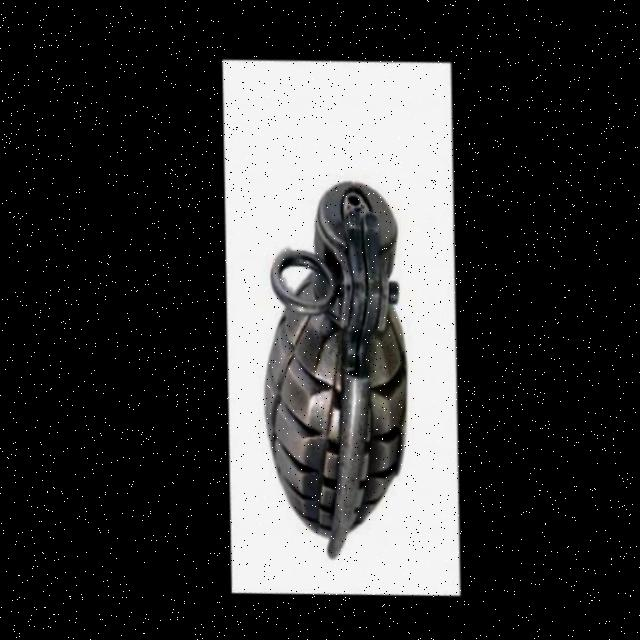grenade: (178, 130, 488, 603)
